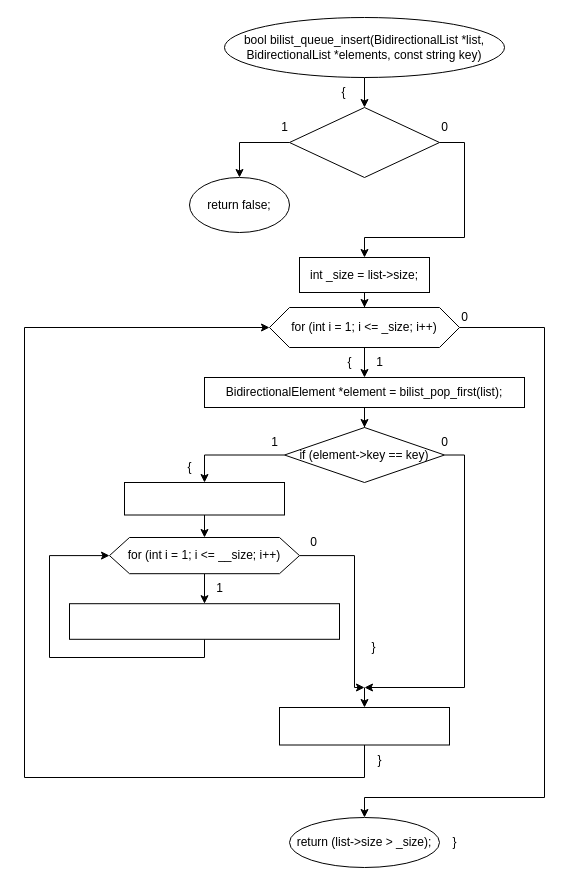
Image size: 570x893. Some labels were removed from this diagram. Here are the shapes that lost their labels. From the top down, the centre of each, then its label:
point 364,142: if (list->first == nullptr)
point 204,498: int __size = elements->size;
point 204,621: bilist_add_after(list, bilist_pop_first(elements));
point 364,725: bilist_add_after(list, element);
